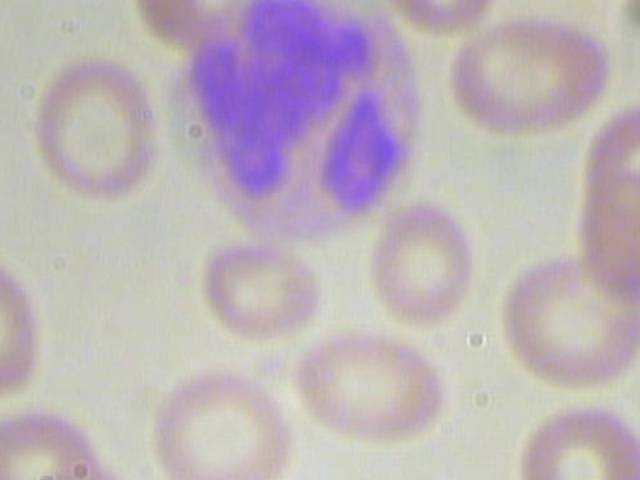RBC: (18, 45, 162, 211), (296, 317, 456, 453), (487, 248, 640, 387), (447, 20, 615, 134), (141, 366, 300, 480), (191, 233, 341, 344), (364, 190, 481, 328), (507, 400, 640, 480), (0, 404, 110, 480), (583, 100, 640, 231), (0, 250, 42, 408), (132, 0, 258, 49), (379, 0, 505, 44), (538, 0, 640, 10)
WBC: (167, 0, 436, 258)
